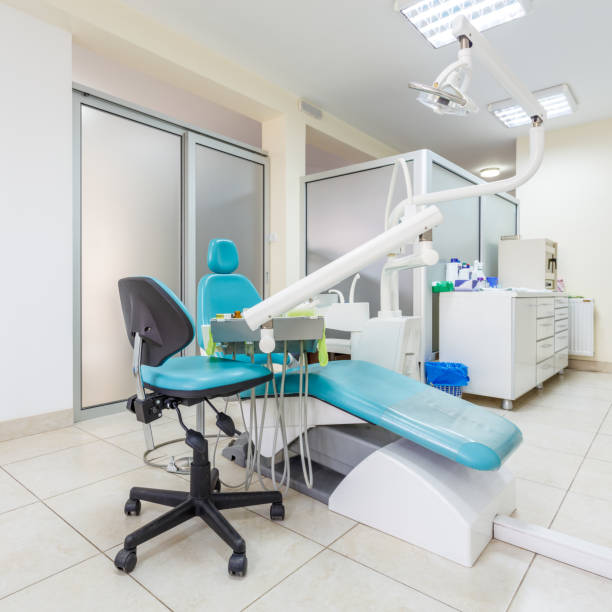chair: (114, 275, 286, 576)
drawer: (439, 285, 570, 410)
exam_table: (198, 238, 520, 569)
handle: (557, 318, 569, 330), (539, 301, 554, 309), (556, 298, 566, 307), (542, 365, 553, 373), (556, 309, 567, 317), (541, 345, 553, 352), (538, 323, 554, 328), (559, 355, 567, 365), (558, 336, 569, 343)
surgical_light: (406, 78, 484, 116)
waste_bin: (426, 361, 469, 419)
